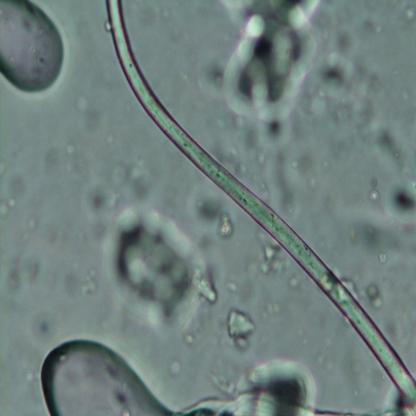Air bubble: (36, 336, 181, 416), (0, 2, 69, 100)
Background material: (106, 209, 216, 328), (222, 2, 327, 115), (181, 356, 321, 413), (72, 153, 150, 221), (244, 104, 296, 196), (338, 38, 381, 124), (350, 212, 400, 263), (0, 248, 45, 301), (60, 256, 102, 304), (374, 128, 412, 177), (386, 178, 416, 223), (26, 302, 58, 344), (226, 307, 254, 350), (361, 179, 386, 209), (72, 86, 96, 115), (260, 242, 280, 274), (216, 211, 236, 238), (357, 286, 382, 302), (402, 2, 416, 27), (0, 195, 12, 222), (170, 358, 183, 378)
Microfibre: (106, 2, 416, 408)
